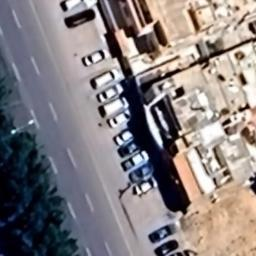pickup: (120, 150, 150, 172)
sedan: (124, 162, 158, 184), (94, 81, 124, 103), (106, 108, 136, 130), (80, 48, 112, 68), (110, 126, 138, 144)
unknown: (60, 9, 98, 31), (140, 222, 172, 244), (152, 236, 179, 254)
van: (86, 69, 120, 89), (98, 98, 129, 114)
